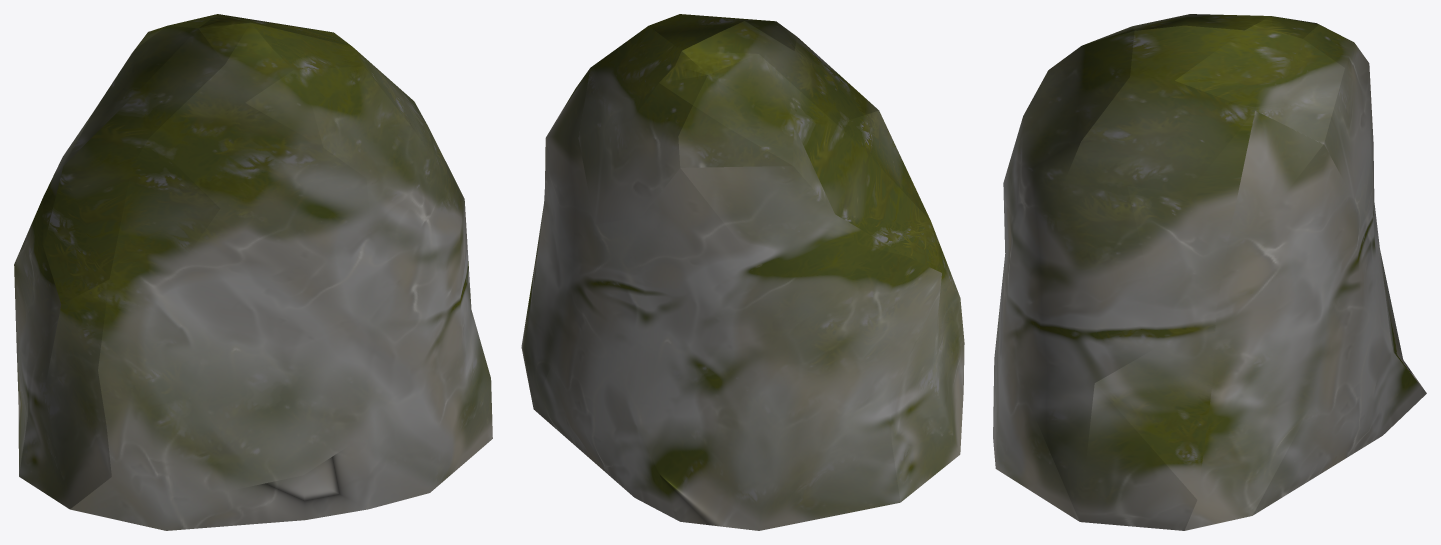
The model's file is StoneVryLow.fbx.
3 views of the same model, side by side, from view 1: azimuth 30°, elevation 25°; view 2: azimuth 150°, elevation 25°; view 3: azimuth 270°, elevation 25° (orthographic). The views are drawn at different scales.
Visible parts, largest first — view 1: SM_stones_big_low; view 2: SM_stones_big_low; view 3: SM_stones_big_low.
Boxes of the visible parts, bbox=[...] form: SM_stones_big_low: bbox=[14, 14, 492, 530]; SM_stones_big_low: bbox=[521, 14, 964, 530]; SM_stones_big_low: bbox=[993, 14, 1426, 530].
Size of the model in its own units: 1.06 by 0.9681 by 0.9179.
1 material, 1 textured.
